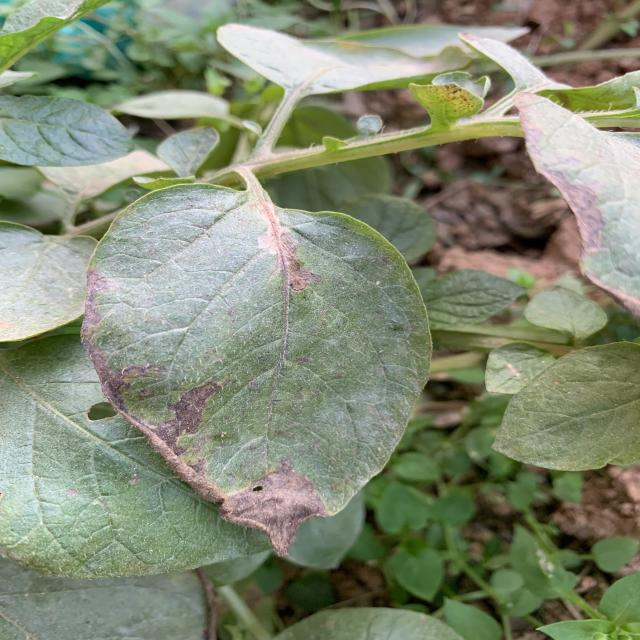lateblight: (105, 389, 280, 550), (225, 462, 328, 555), (240, 191, 322, 301), (82, 285, 107, 365), (175, 381, 222, 411), (88, 269, 105, 282)
